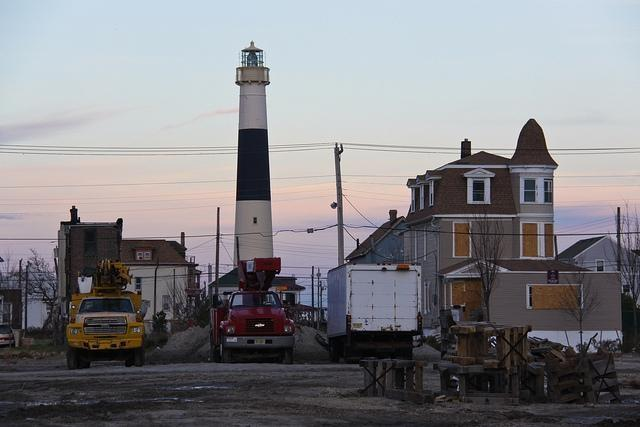truck: (325, 264, 424, 364), (66, 260, 148, 371), (210, 256, 294, 364)
